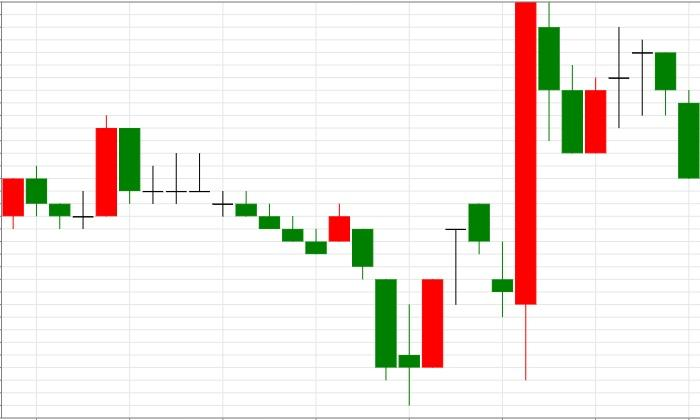morning_star_rise: (95, 115, 444, 405)
